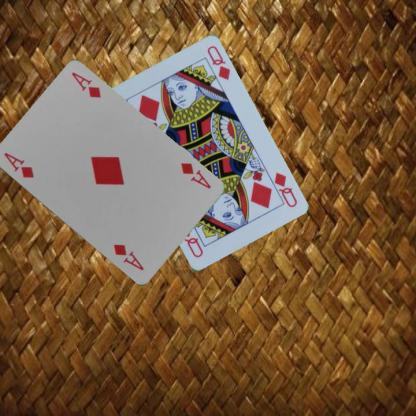Ad: (177, 160, 212, 190), (1, 150, 35, 180)
Qd: (264, 169, 298, 209)
